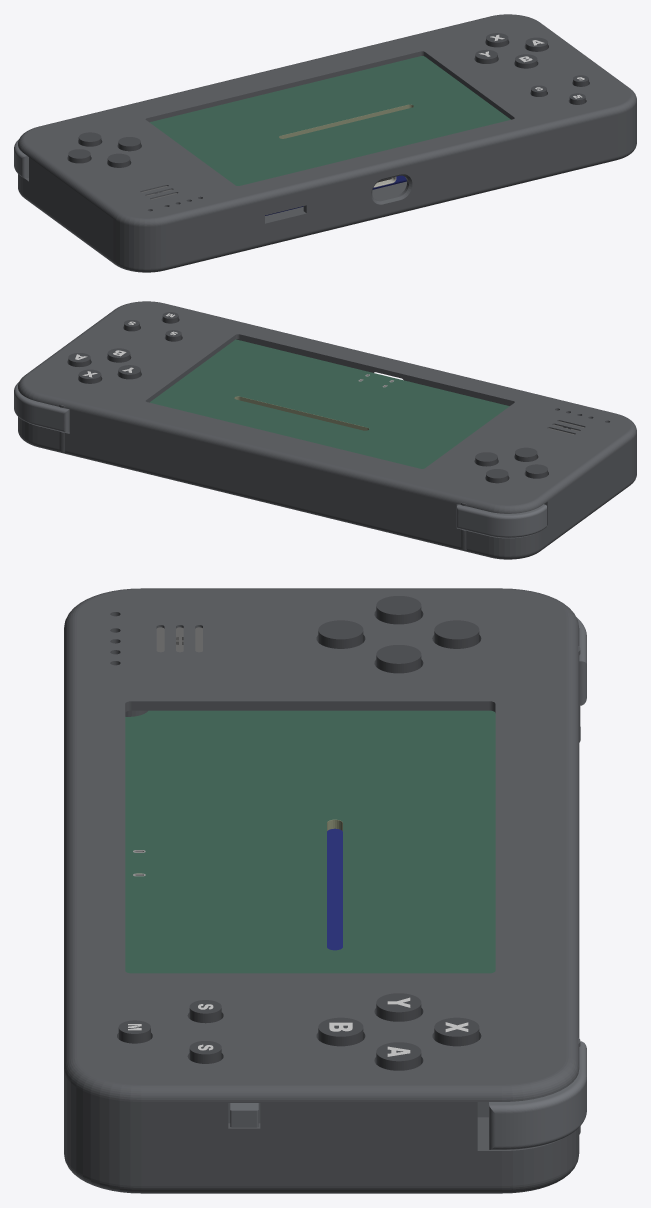
3 views of the same model, one above another, from view 1: azimuth 30°, elevation 25°; view 2: azimuth 150°, elevation 25°; view 3: azimuth 270°, elevation 25° (orthographic). The views are drawn at different scales.
Visible parts, largest first — view 1: Front shell, PCBA, Back shell, L trigger; view 2: Front shell, PCBA, Back shell, L trigger, R trigger; view 3: Front shell, PCBA, Back shell, R trigger, Cap UP, Cap DOWN, Cap LEFT, Cap RIGHT, Cap Y, Cap A, Cap X, Cap B.
Part boxes in pixels (left/top/right/bottom): Front shell: left=18, top=14, right=636, bottom=243; PCBA: left=141, top=56, right=510, bottom=215; Back shell: left=18, top=118, right=636, bottom=272; L trigger: left=14, top=139, right=28, bottom=178; Front shell: left=18, top=301, right=636, bottom=519; PCBA: left=150, top=339, right=584, bottom=468; Back shell: left=18, top=417, right=636, bottom=559; L trigger: left=457, top=504, right=546, bottom=537; R trigger: left=14, top=382, right=69, bottom=432; Front shell: left=64, top=588, right=580, bottom=1134; PCBA: left=125, top=627, right=495, bottom=973; Back shell: left=64, top=705, right=580, bottom=1193; R trigger: left=477, top=1041, right=586, bottom=1149; Cap UP: left=434, top=620, right=479, bottom=648; Cap DOWN: left=318, top=620, right=363, bottom=648; Cap LEFT: left=376, top=596, right=421, bottom=624; Cap RIGHT: left=376, top=645, right=421, bottom=673; Cap Y: left=376, top=993, right=421, bottom=1021; Cap A: left=376, top=1042, right=421, bottom=1070; Cap X: left=434, top=1017, right=479, bottom=1046; Cap B: left=318, top=1017, right=363, bottom=1046.
Size of the model in its own units: 0.1884 by 0.0199 by 0.0812.
